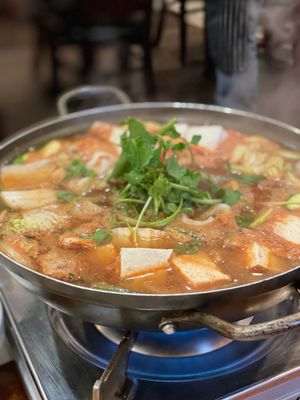sushi: (1, 111, 300, 339)
